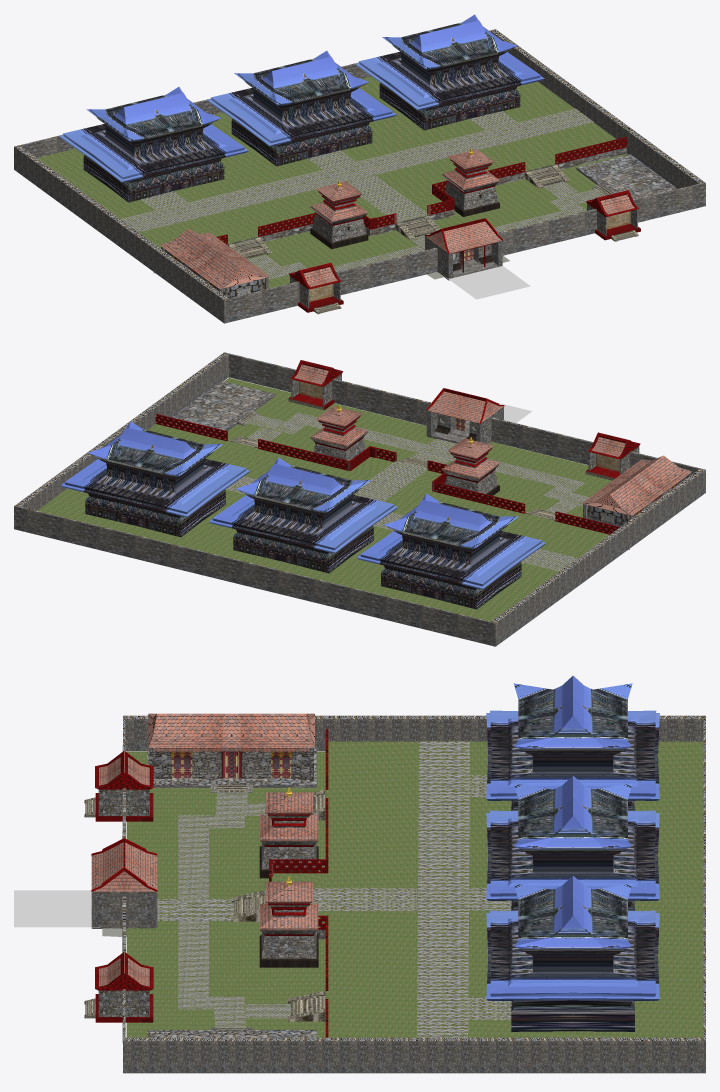
Rendered from templotes.fbx.
3 renders of one model, top to bottom at view 1: azimuth 30°, elevation 25°; view 2: azimuth 150°, elevation 25°; view 3: azimuth 270°, elevation 25°, orthographic. The views are drawn at different scales.
Visible parts, largest first — view 1: TemploPrincipal.002, Muro_Rod.002, Muro_Rod, Plane.005, Cube.005, CasetaCentral.003, CasetasLaterales, CasetaCentral, Plane.004, Cube.007, Plane.003, Cube.004 (+2 smaller); view 2: TemploPrincipal.002, Muro_Rod, Muro_Rod.002, Plane.005, Cube.005, Plane.004, CasetaCentral.003, CasetasLaterales, Cube.007, CasetaCentral, Cube; view 3: Muro_Rod.002, TemploPrincipal.002, Muro_Rod, Plane.005, CasetaCentral.003, Cube.005, CasetasLaterales, CasetaCentral, Cube.007, Plane.003, Plane.004, Cube (+2 smaller).
Boxes of the visible parts, x1,y1,x2,y2 form: TemploPrincipal.002: (59,14,544,202); Muro_Rod.002: (37,76,628,288); Muro_Rod: (14,29,705,323); Plane.005: (121,108,605,279); Cube.005: (310,148,499,249); CasetaCentral.003: (160,229,269,298); CasetasLaterales: (289,190,638,308); CasetaCentral: (425,221,502,280); Plane.004: (165,137,627,251); Cube.007: (576,154,677,199); Plane.003: (446,266,530,299); Cube.004: (228,164,569,258); TemploPrincipal.002: (61,421,545,609); Muro_Rod: (14,352,705,646); Muro_Rod.002: (37,377,629,621); Plane.005: (225,412,589,571); Cube.005: (310,405,499,502); Plane.004: (155,414,619,534); CasetaCentral.003: (581,455,691,533); CasetasLaterales: (290,360,640,474); Cube.007: (167,381,582,526); CasetaCentral: (426,391,503,443); Cube: (288,394,619,480); Muro_Rod.002: (126,741,703,1037); TemploPrincipal.002: (486,675,659,1031); Muro_Rod: (122,715,705,1073); Plane.005: (178,741,511,1037); CasetaCentral.003: (148,713,314,781); Cube.005: (259,787,318,967); CasetasLaterales: (95,750,153,1016); CasetaCentral: (91,842,157,928); Cube.007: (147,748,316,1037); Plane.003: (14,890,99,927); Plane.004: (269,728,328,1037); Cube: (84,793,153,1022).
Size of the model in its own units: 1791 by 308 by 1608.
